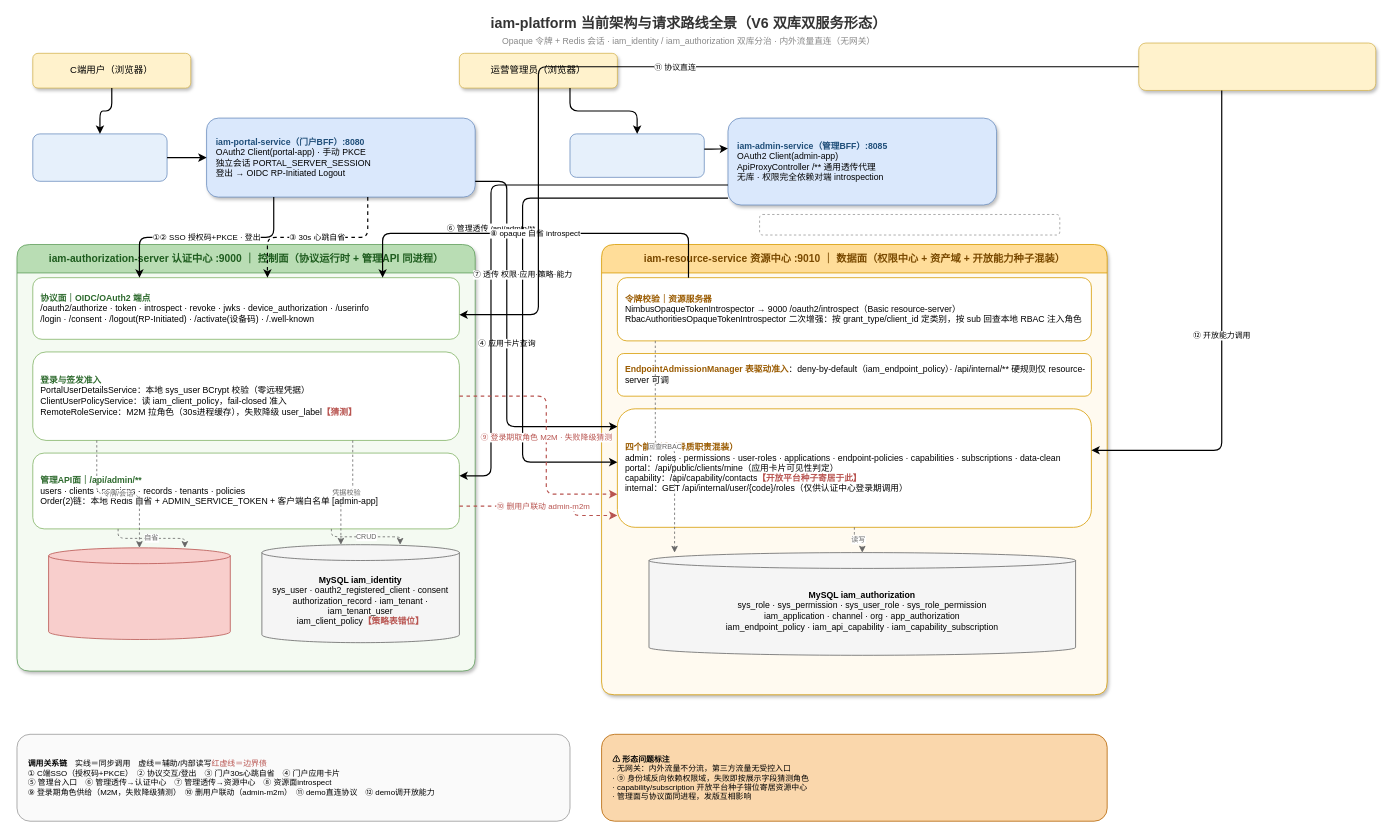
The diagram is 1394 pixels wide and 835 high, and some of its shapes have lost their labels. Here are the shapes that lost their labels. From the top down, the centre of each, then its label:
(x=1258, y=67): 第三方接入方 example demos web-app:8081 · device-app:8082 · mobile-app:8083
(x=99, y=157): iam-portal-web 静态站 :8000
(x=636, y=155): iam-admin-web 静态页 :8001
(x=909, y=224): ✕ API 网关缺位 —— 内外部流量未分流（开放平台接入的前置缺口）
(x=139, y=593): Redis 令牌/授权码/会话 oauth2:auth:* · oauth2:session 撤销即删 key
